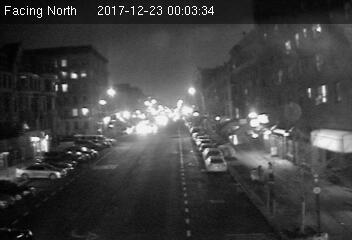car: (204, 155, 227, 172)
pedestrian: (266, 160, 275, 183)
